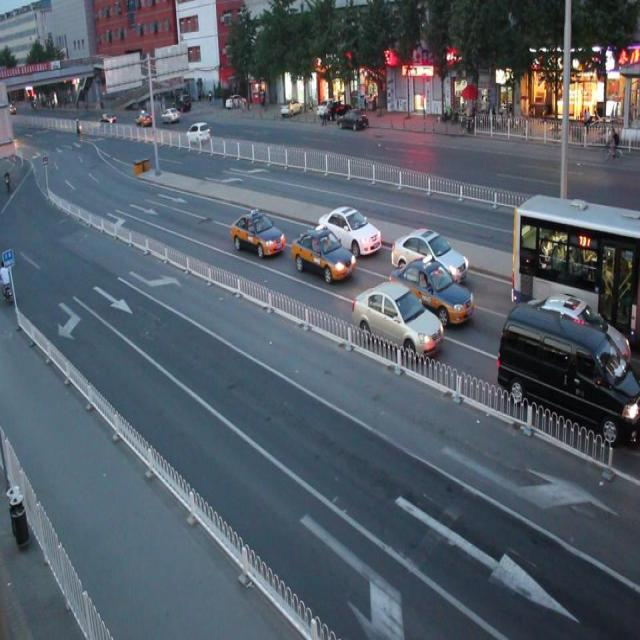car: (513, 292, 628, 386), (351, 280, 443, 356), (388, 260, 474, 330), (390, 228, 467, 283), (291, 225, 354, 282), (316, 204, 381, 254), (230, 206, 284, 256)
truck: (496, 300, 640, 446)
van: (510, 193, 640, 350)
